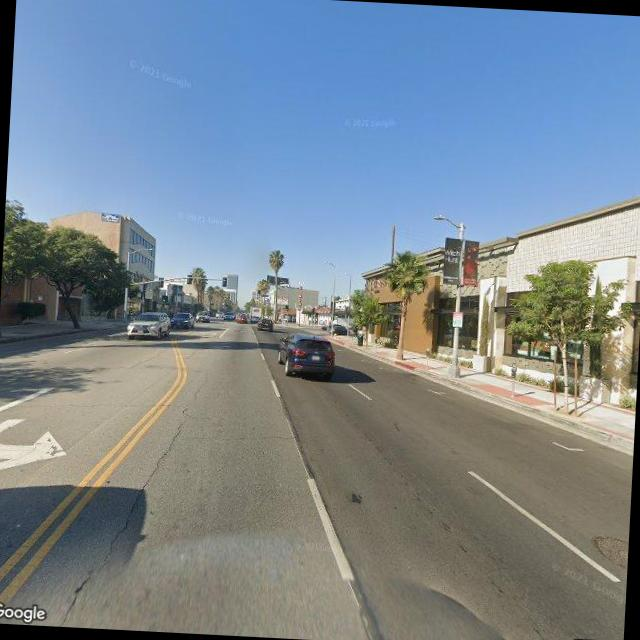crack: (93, 406, 190, 574), (182, 422, 296, 448)
